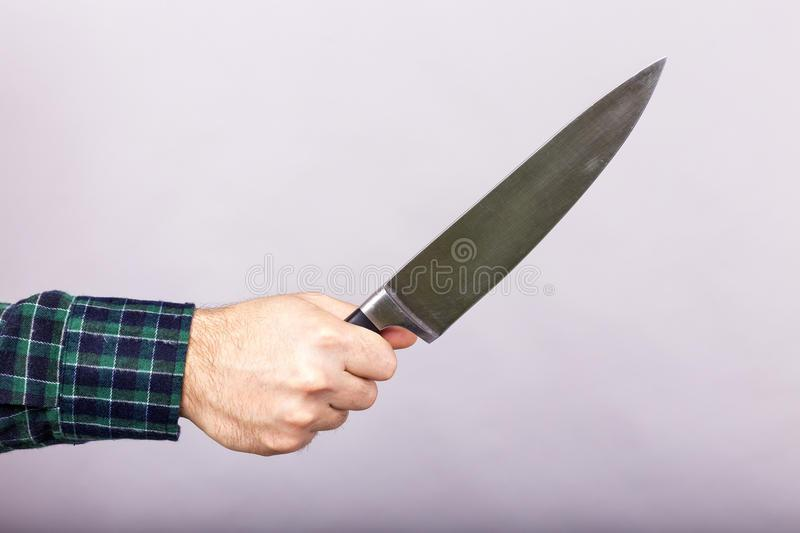weapon: (337, 54, 669, 356)
